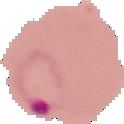parasitized: (14, 41, 72, 120)
